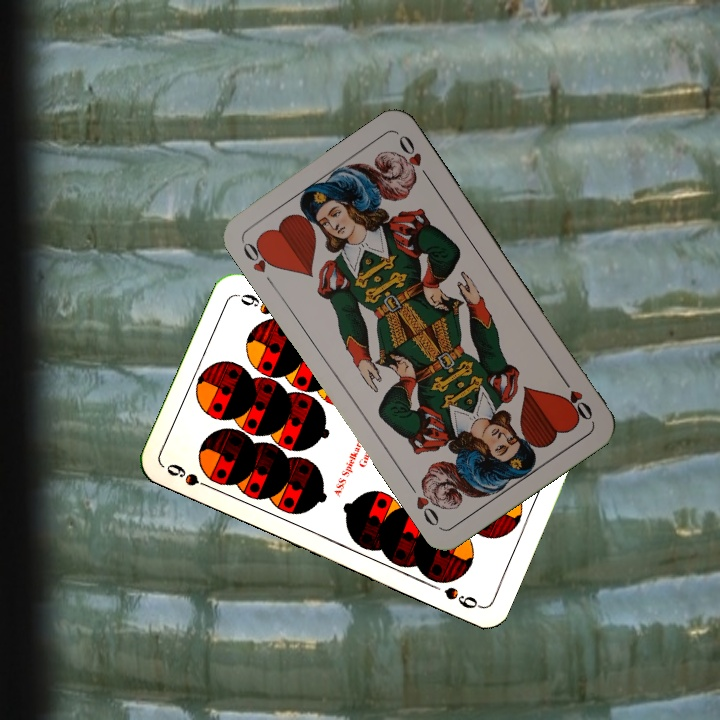HO: (556, 372, 596, 423), (238, 234, 280, 276)
S9: (162, 459, 218, 493)
